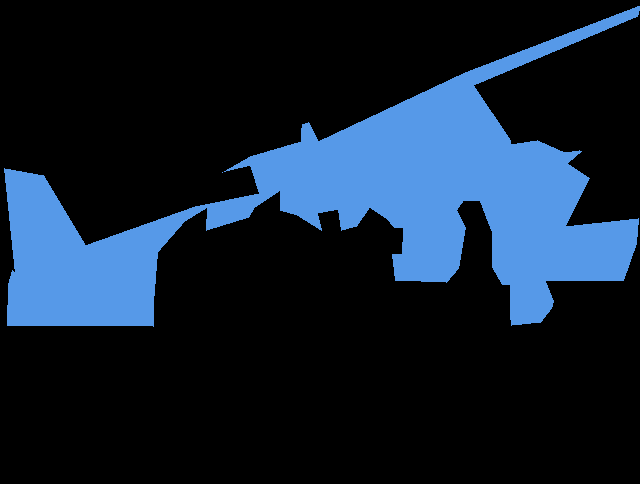Airplane: (4, 5, 640, 326)
